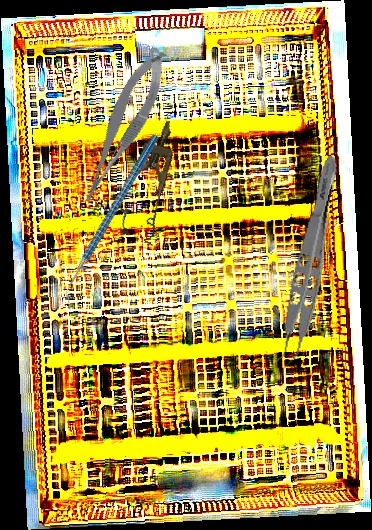Chopper: (18, 133, 206, 310)
Micro Scissor: (61, 43, 183, 209)
Speculum: (107, 113, 192, 247)
Tissue Forceps: (268, 152, 343, 372)
